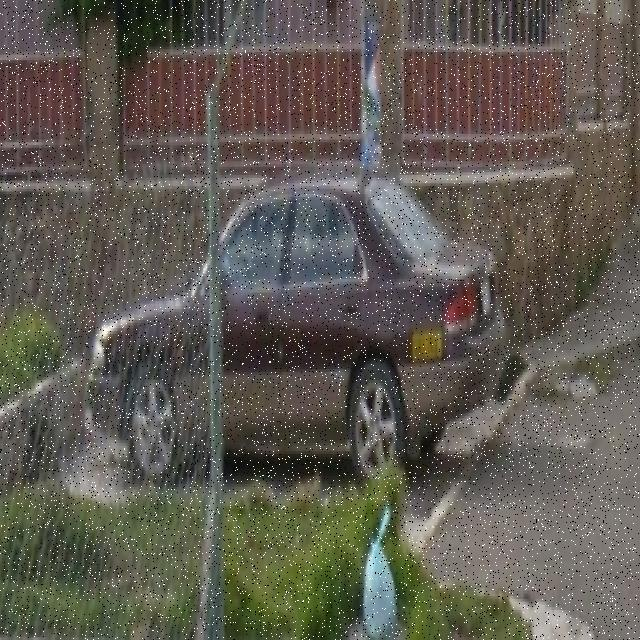cars: (93, 202, 510, 490)
